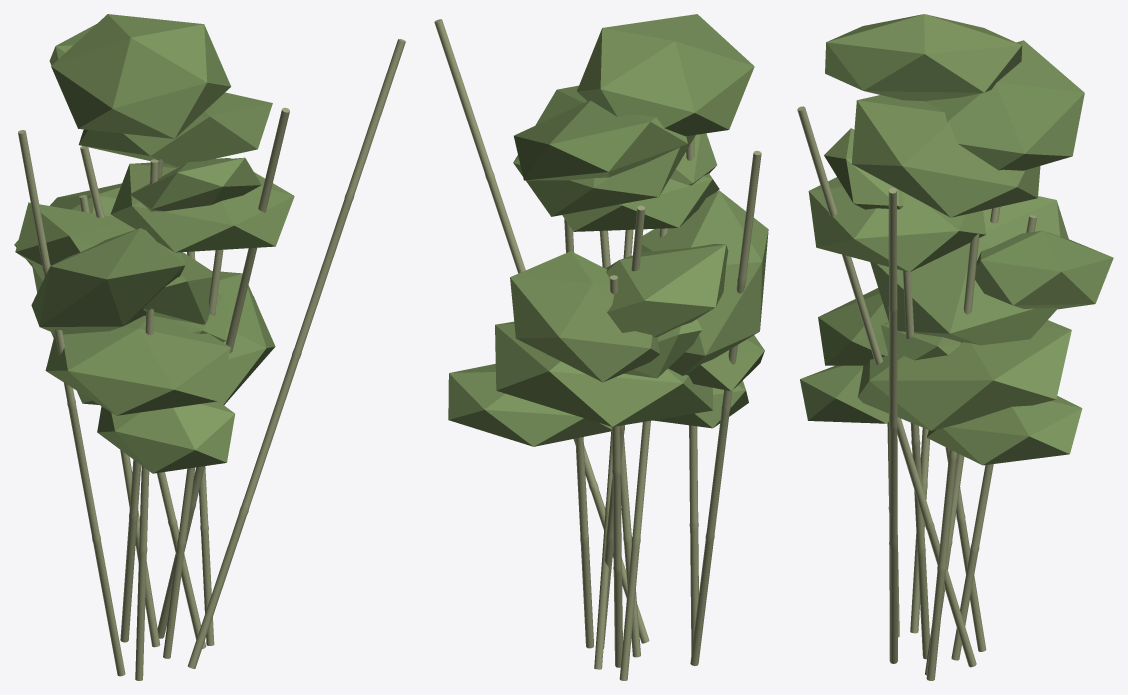
File: jp_bamboo.glb
3 views of the same model, side by side, from view 1: azimuth 30°, elevation 25°; view 2: azimuth 150°, elevation 25°; view 3: azimuth 270°, elevation 25° (orthographic).
Visible parts, largest first — view 1: jp_bamboo; view 2: jp_bamboo; view 3: jp_bamboo.
Part boxes in pixels (x1,y1,x2,y2): jp_bamboo: [14, 14, 405, 680]; jp_bamboo: [434, 14, 768, 680]; jp_bamboo: [797, 14, 1113, 680].
Size of the model in its own units: 4.74 by 7.98 by 3.65.
